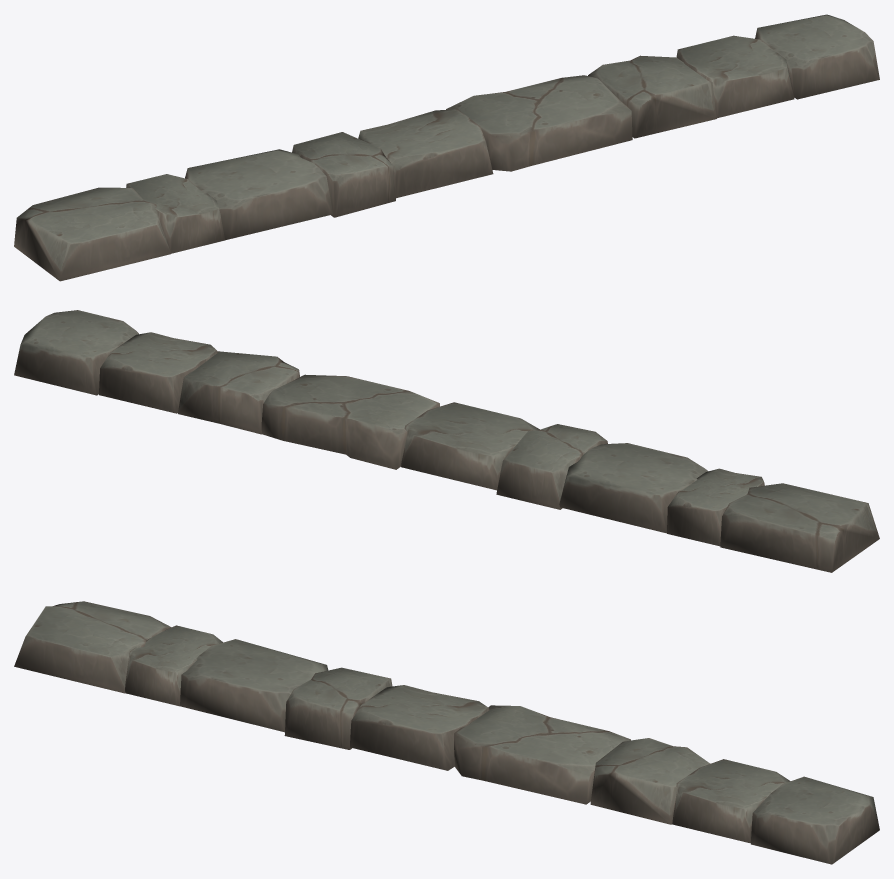
Rendered from SM_FW01_Ruins_Int_Floor_Trim_6m_01.fbx.
3 views of the same model, one above another, from view 1: azimuth 30°, elevation 25°; view 2: azimuth 150°, elevation 25°; view 3: azimuth 330°, elevation 25° (orthographic).
Visible parts, largest first — view 1: SM_FW01_Ruins_Int_Floor_Trim_6m_01_LOD0; view 2: SM_FW01_Ruins_Int_Floor_Trim_6m_01_LOD0; view 3: SM_FW01_Ruins_Int_Floor_Trim_6m_01_LOD0.
Boxes of the visible parts, x1,y1,x2,y2 form: SM_FW01_Ruins_Int_Floor_Trim_6m_01_LOD0: (14, 14, 879, 281); SM_FW01_Ruins_Int_Floor_Trim_6m_01_LOD0: (14, 310, 879, 572); SM_FW01_Ruins_Int_Floor_Trim_6m_01_LOD0: (14, 601, 879, 864).
Size of what is drawn, in the model's own units: 6.01 by 0.3008 by 0.6512.
